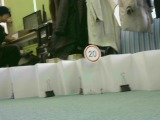speed_20: (83, 44, 100, 63)
